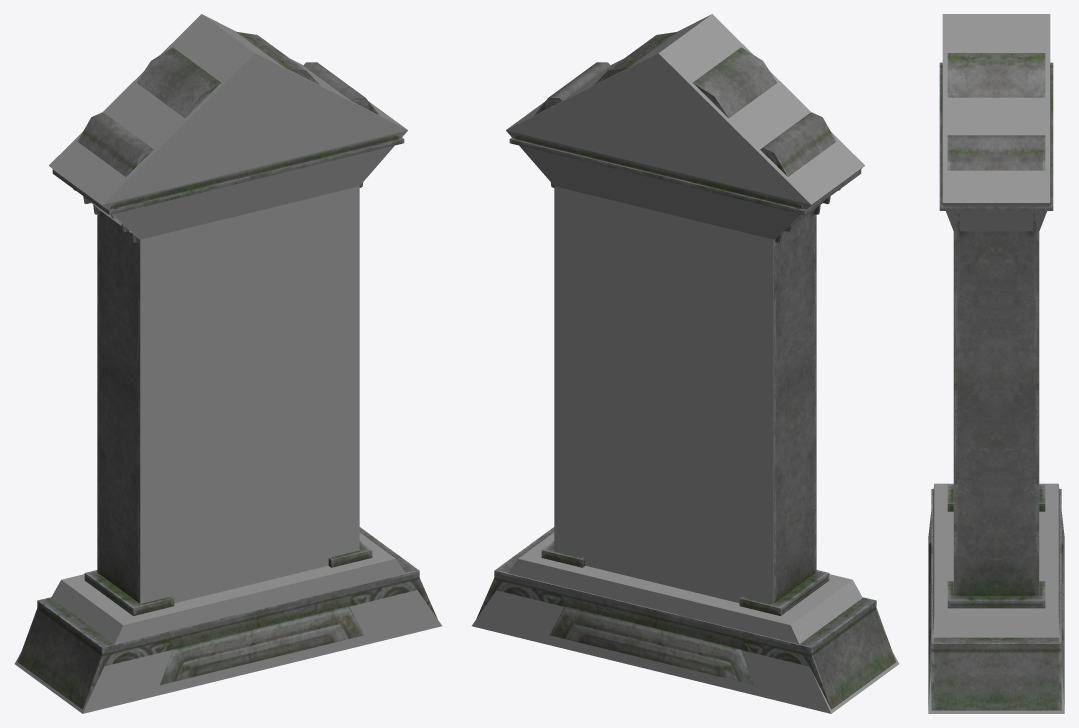
Rendered from Scene_Object_ShiBei_1_01.FBX.
3 renders of one model, left to right at view 1: azimuth 30°, elevation 25°; view 2: azimuth 150°, elevation 25°; view 3: azimuth 270°, elevation 25°, orthographic.
Visible parts, largest first — view 1: Scene_Object_ShiBei_1_Xzm, Scene_Object_ShiBei_1_01; view 2: Scene_Object_ShiBei_1_Xzm, Scene_Object_ShiBei_1_01; view 3: Scene_Object_ShiBei_1_01, Scene_Object_ShiBei_1_Xzm.
Part boxes in pixels (x1=…): Scene_Object_ShiBei_1_Xzm: x1=14, y1=14, x2=441, y2=713; Scene_Object_ShiBei_1_01: x1=18, y1=32, x2=437, y2=709; Scene_Object_ShiBei_1_Xzm: x1=472, y1=14, x2=899, y2=713; Scene_Object_ShiBei_1_01: x1=476, y1=32, x2=895, y2=709; Scene_Object_ShiBei_1_01: x1=929, y1=53, x2=1063, y2=710; Scene_Object_ShiBei_1_Xzm: x1=928, y1=14, x2=1064, y2=713.
Bounding box in the file's own units: 302 × 491 × 99.24.
